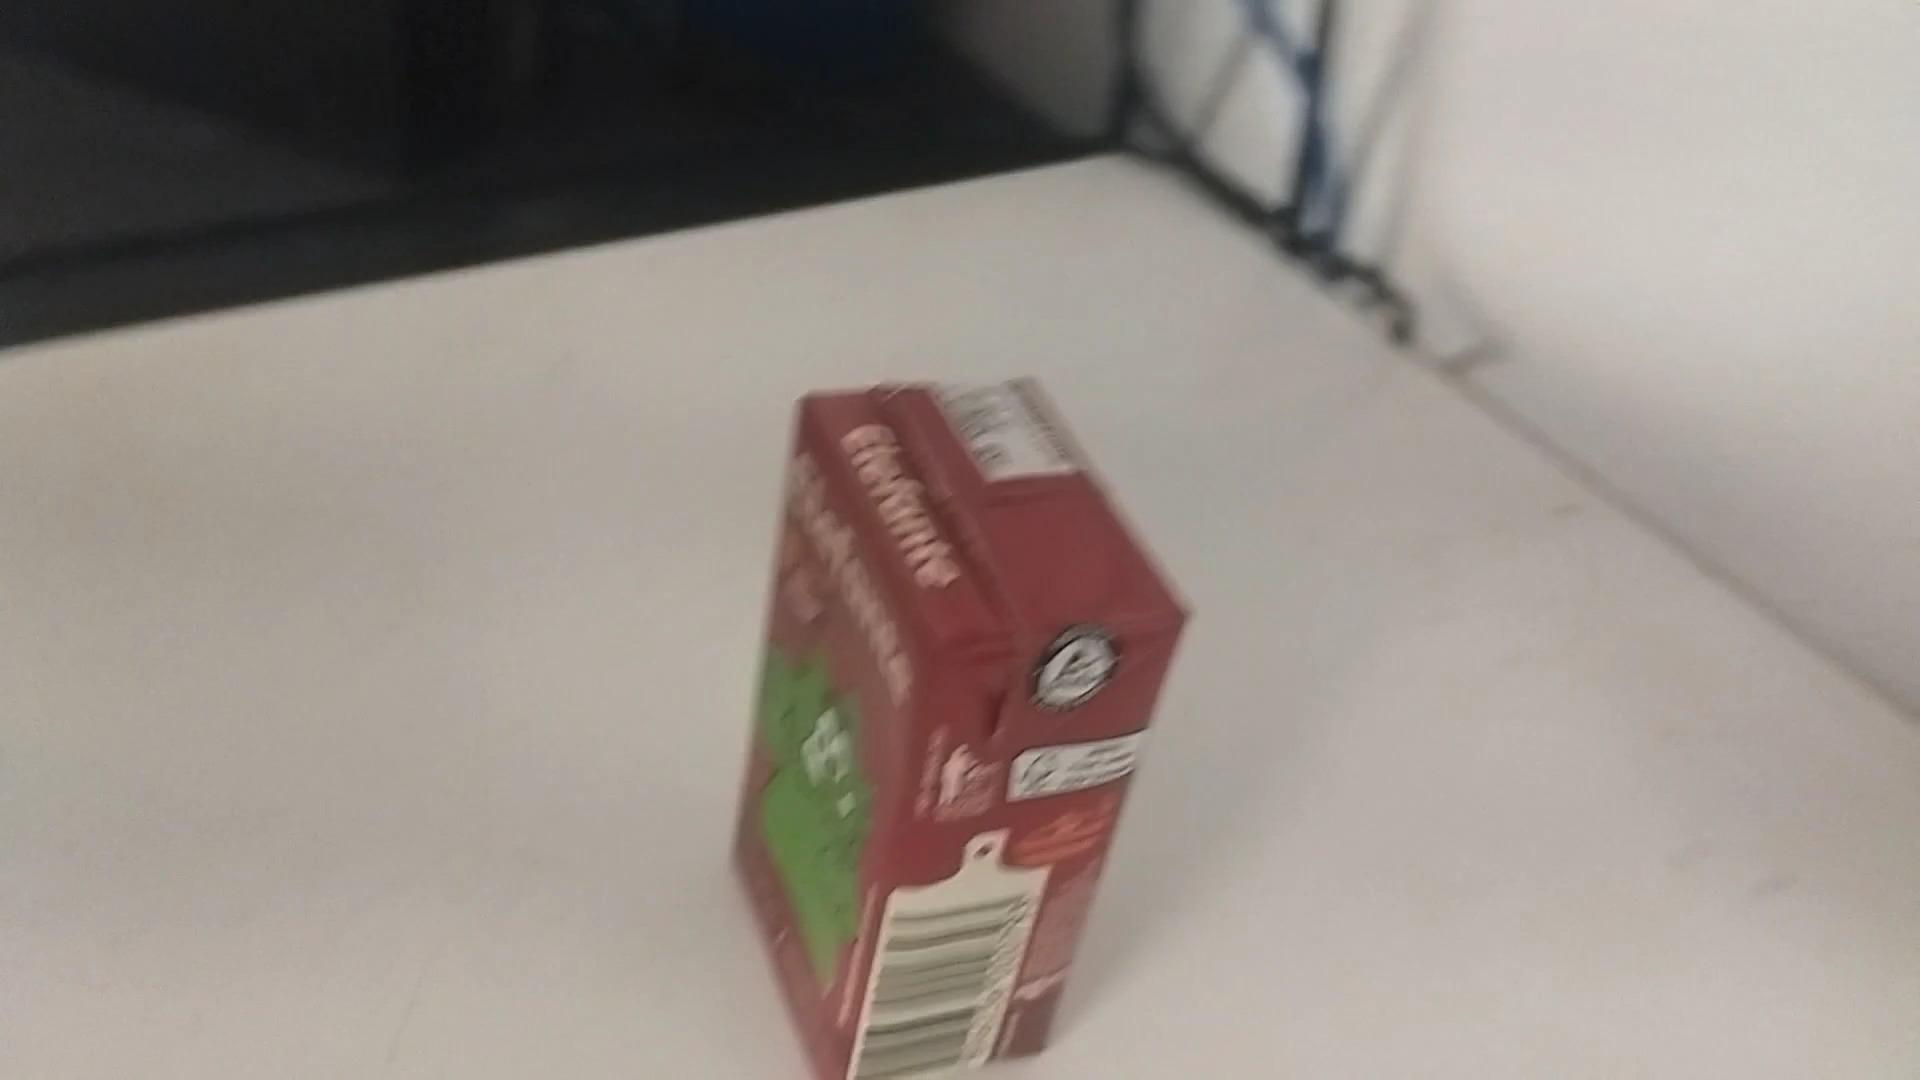tomate: (731, 372, 1195, 1080)
